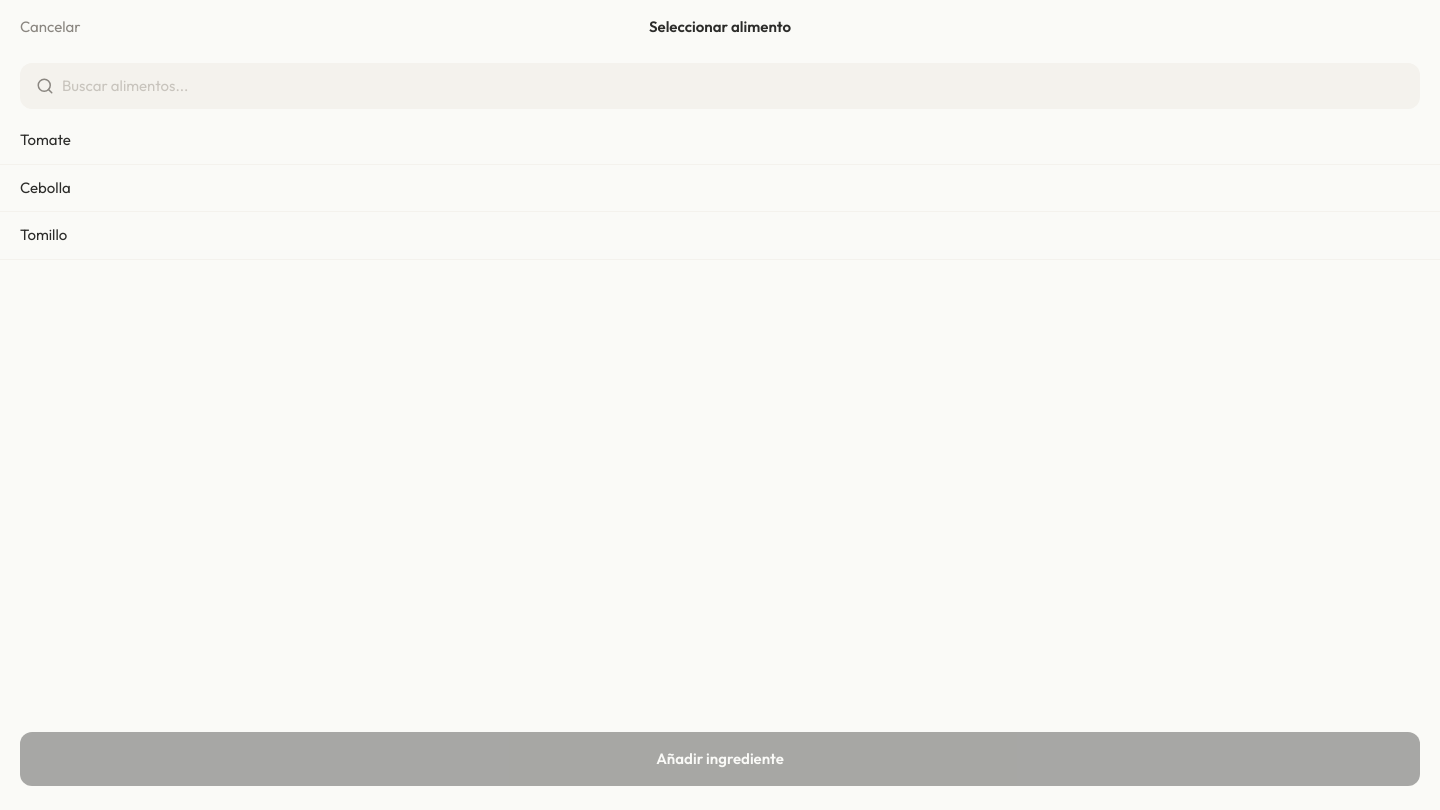
IngredientPicker › filters foods by search term
Expected: the text "Tomate" is shown, [20, 129, 71, 152]
Type "Tom" into the field with placeholder "Buscar alimentos...".
click(733, 86); type("Tom")  # box [62, 74, 1404, 97]
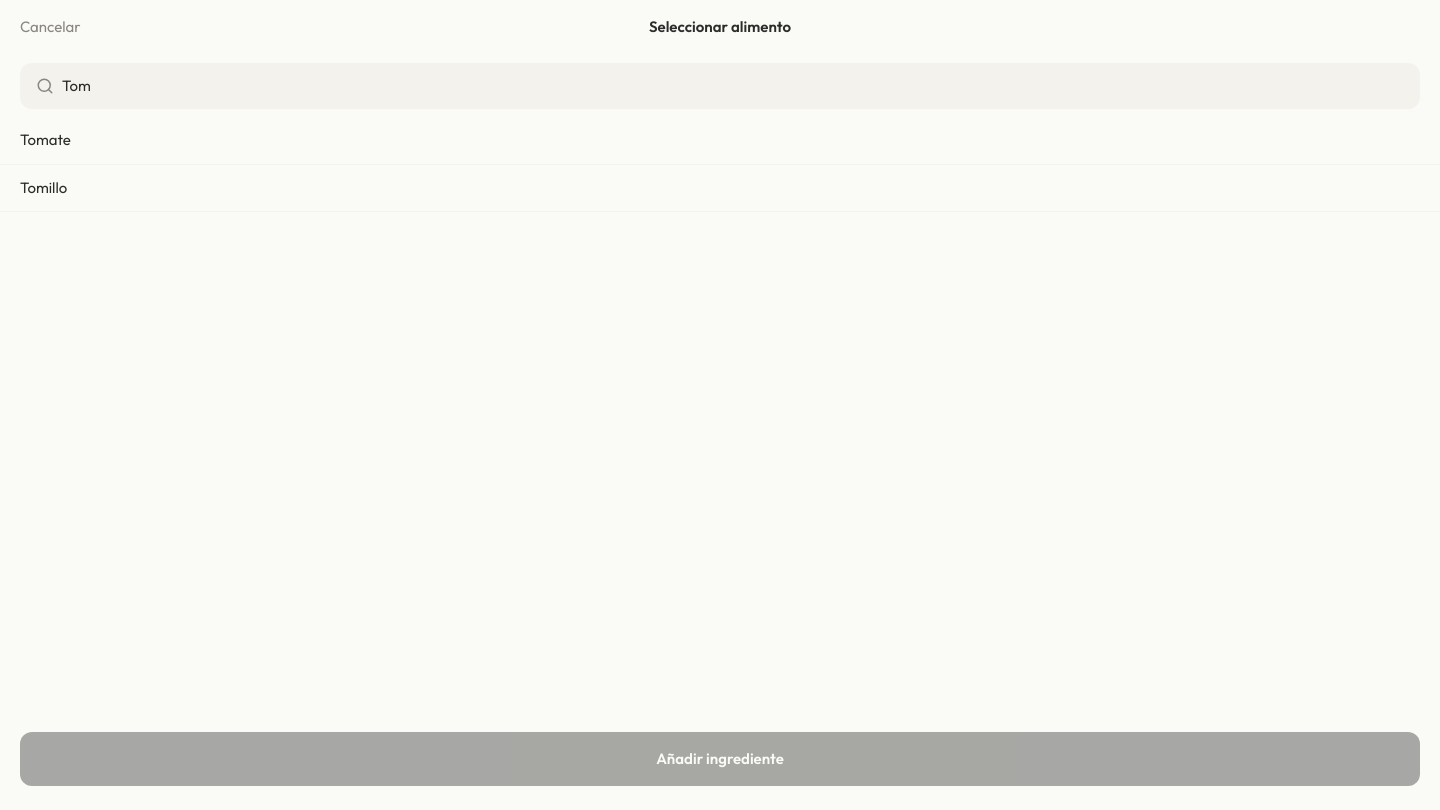
Expected: the text "Tomate" is shown, [20, 129, 71, 152]
Now the button "Cebolla" is gone
